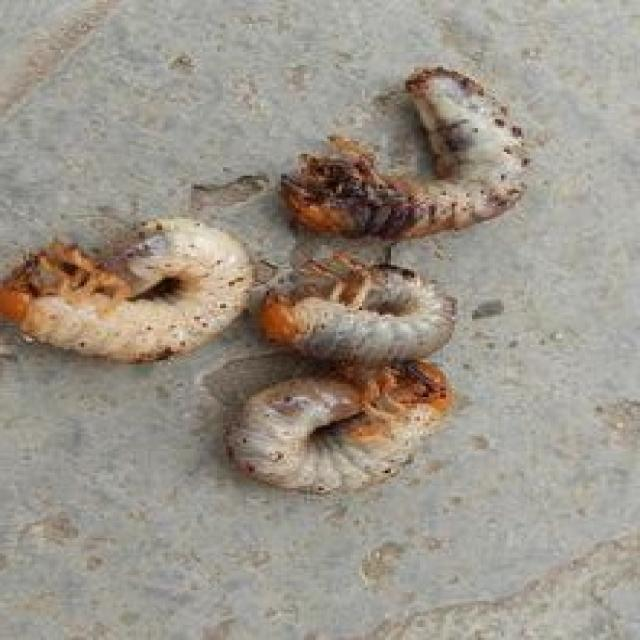grub: (292, 64, 532, 259), (4, 214, 247, 387), (215, 354, 453, 503), (243, 265, 460, 375)
